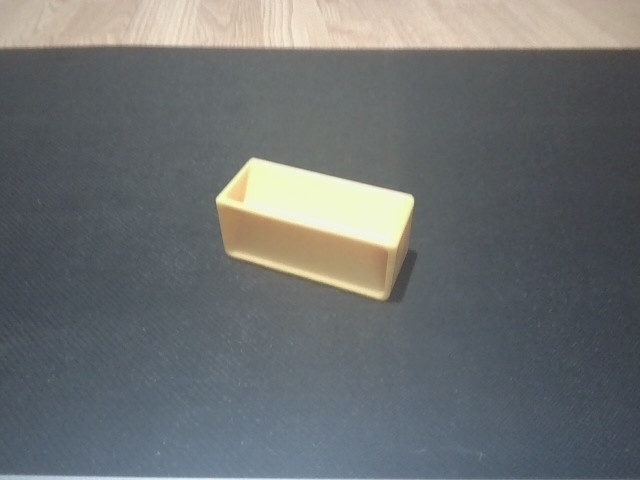YellowSample: (213, 154, 417, 302)
